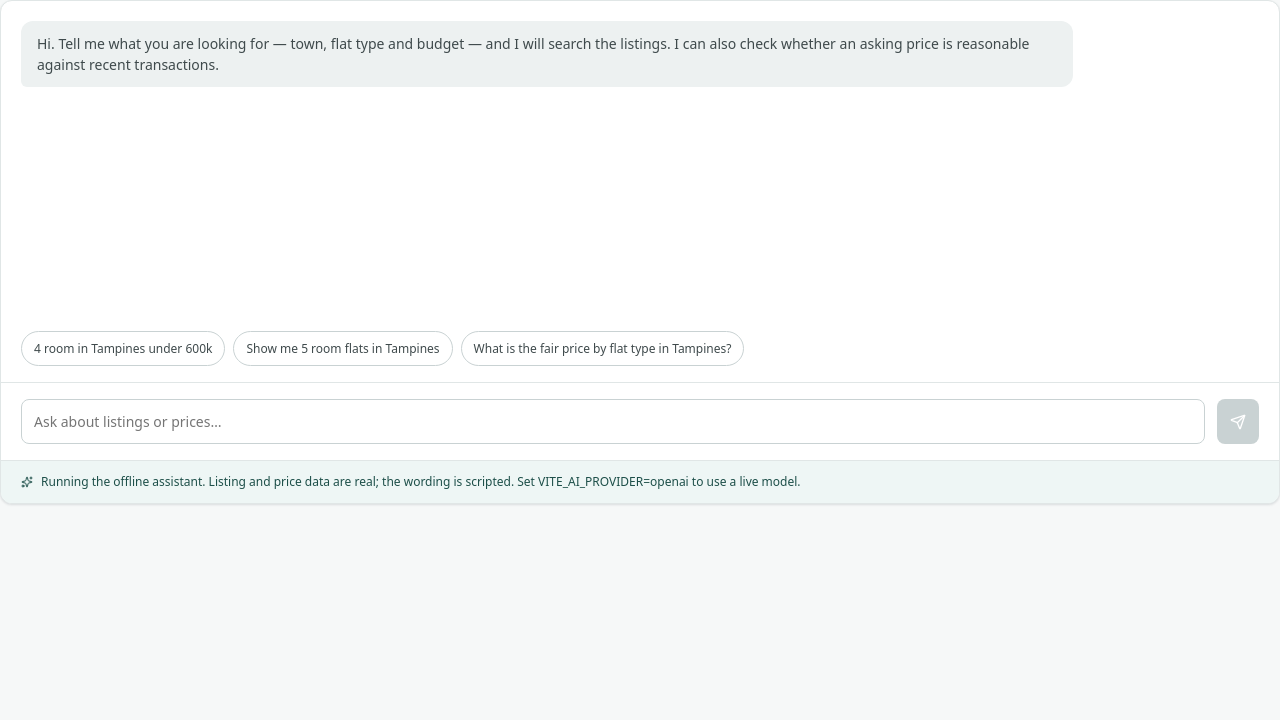
Test case: ChatPanel with the offline assistant › searches listings from a plain-English request
This screenshot has width=1280, height=720.
Type "4 room in tampines under 600k" into the field named "message the assistant" at (613, 422), box [21, 399, 1205, 444]
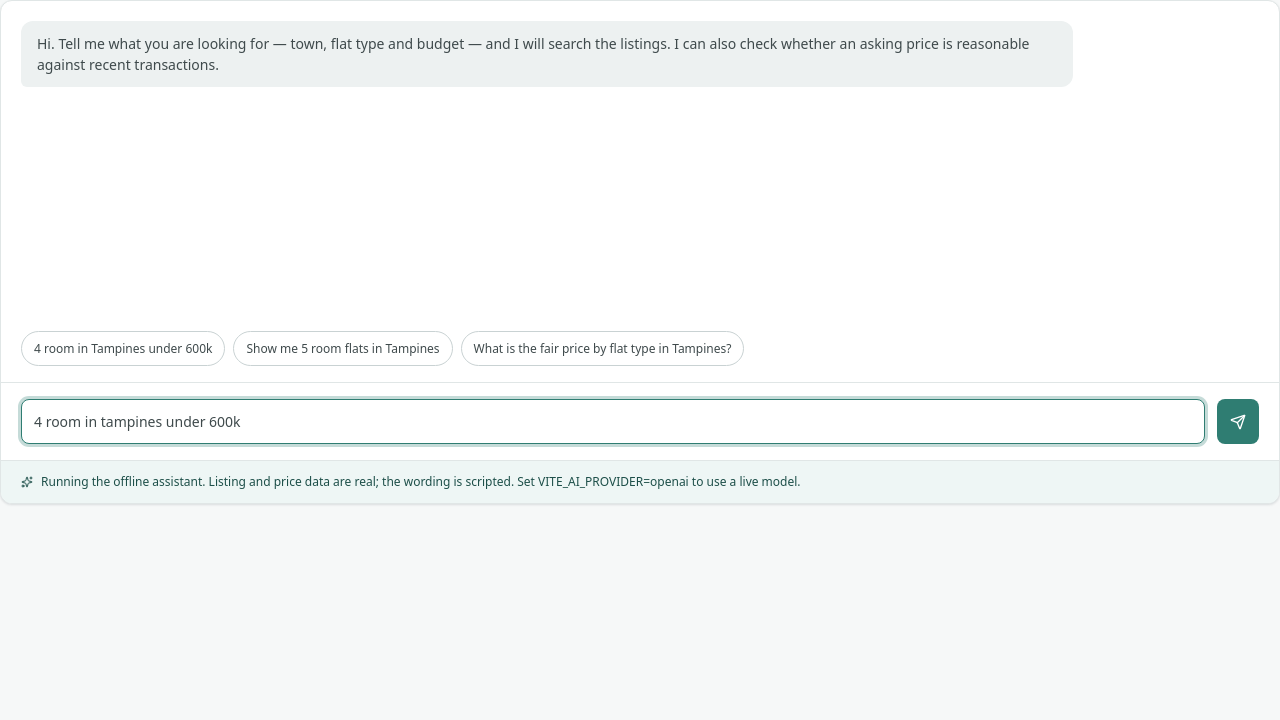
Click the button named "send" at (1238, 422), box [1217, 399, 1259, 444]
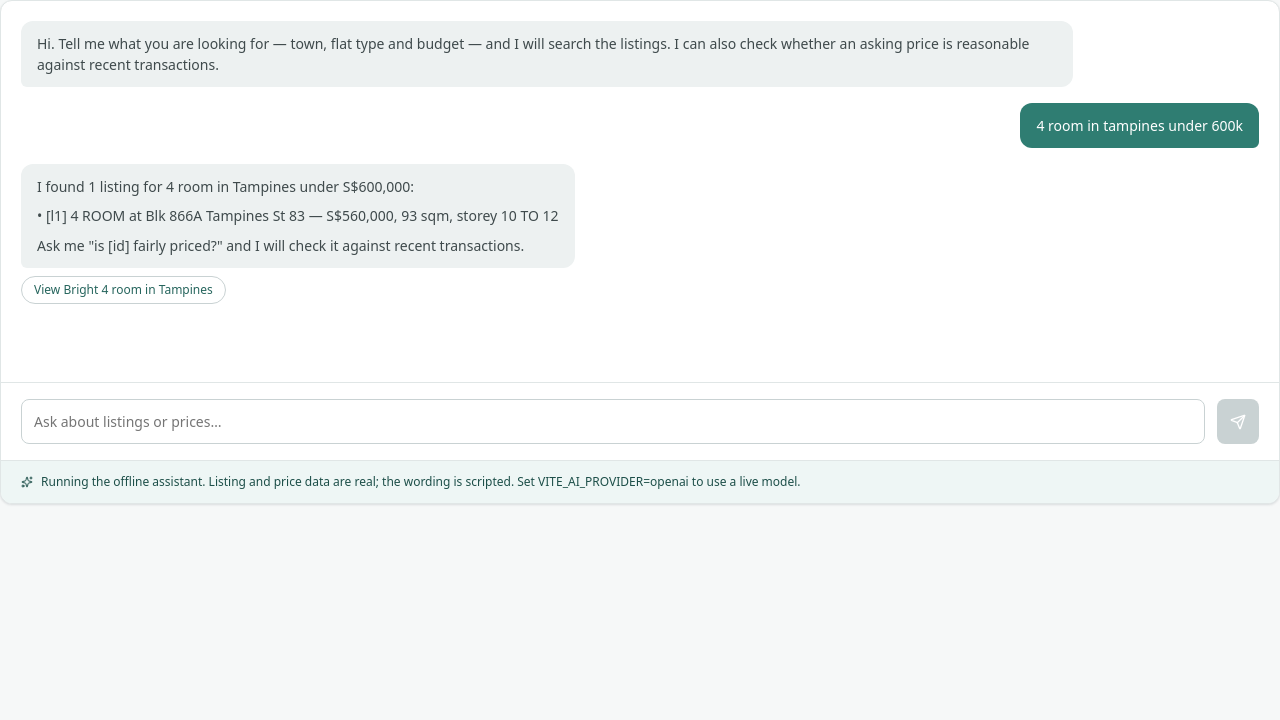
Check: the text "I found 1 listing for 4 room in Tampines under S$600,000:" is shown, box [37, 177, 414, 196]
Check: the link "View Bright 4 room in Tampines" is shown, box [21, 276, 226, 304]
